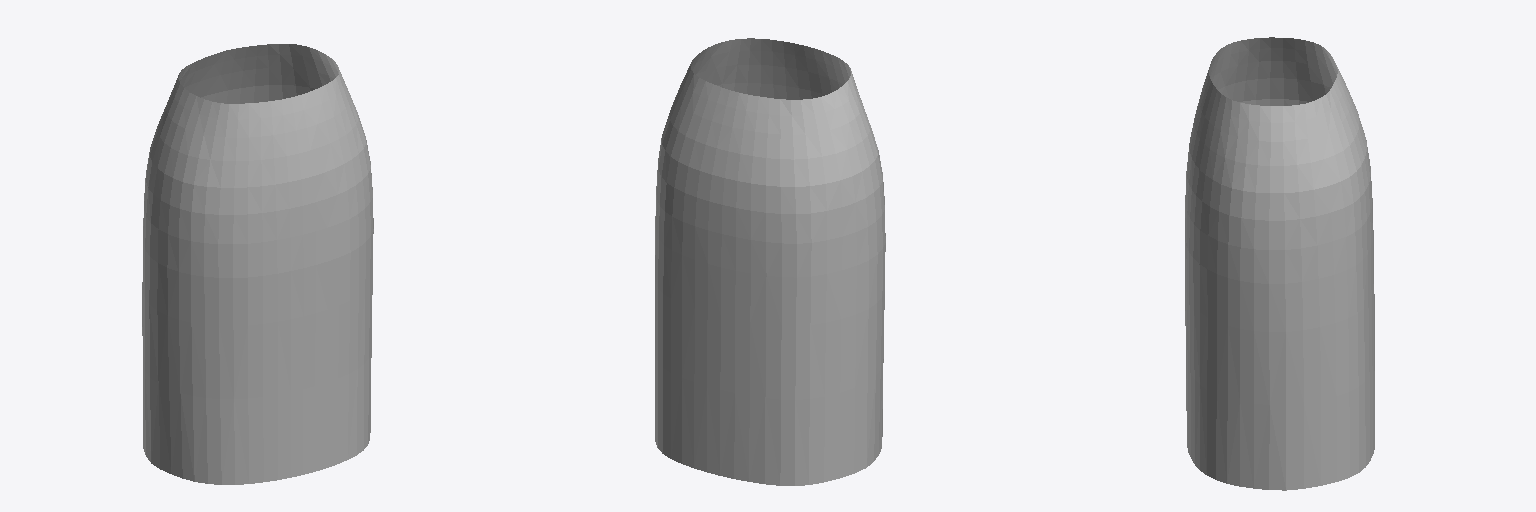
Rendered from 10_skirtlongnarrow.obj.
3 views of the same model, side by side, from view 1: azimuth 30°, elevation 25°; view 2: azimuth 150°, elevation 25°; view 3: azimuth 270°, elevation 25° (orthographic).
Parts seen in each view (by area): view 1: skirtfront, skirtback, skirtbackleft, skirtbackright; view 2: skirtback, skirtbackleft, skirtfront, skirtbackright; view 3: skirtfront, skirtbackright, skirtback, skirtbackleft.
Part boxes in pixels (x1,y1,x2,y2): skirtfront: (149,54,373,484); skirtback: (183,44,268,103); skirtbackleft: (142,63,192,461); skirtbackright: (268,44,335,100); skirtback: (671,81,781,485); skirtbackleft: (780,90,868,485); skirtfront: (691,38,885,466); skirtbackright: (655,58,705,458); skirtfront: (1185,37,1285,490); skirtbackright: (1283,91,1365,490); skirtback: (1330,54,1374,465); skirtbackleft: (1283,38,1337,105).
Bounding box in the file's own units: 15.71 × 26.7 × 12.49.